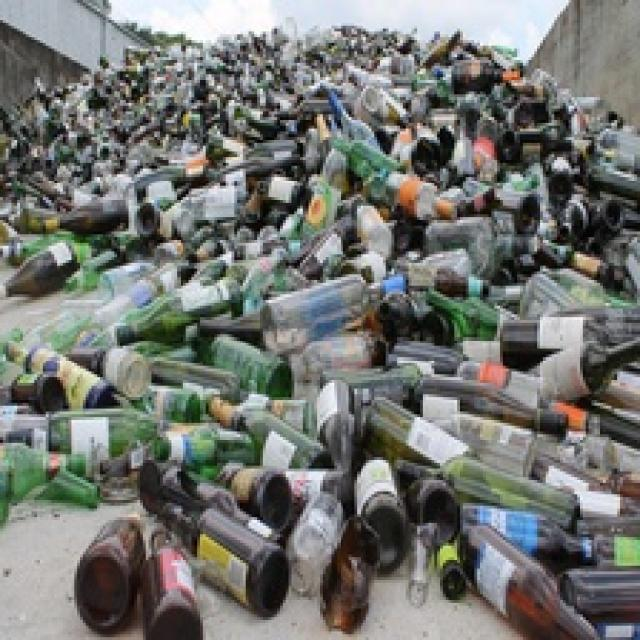Glass: (452, 522, 600, 640), (158, 499, 294, 621), (397, 456, 578, 527), (256, 274, 384, 357), (114, 275, 246, 351), (202, 396, 330, 470), (0, 338, 115, 411), (525, 331, 640, 401), (141, 523, 206, 640)
